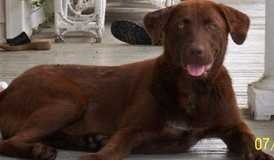dog: (1, 0, 258, 153)
